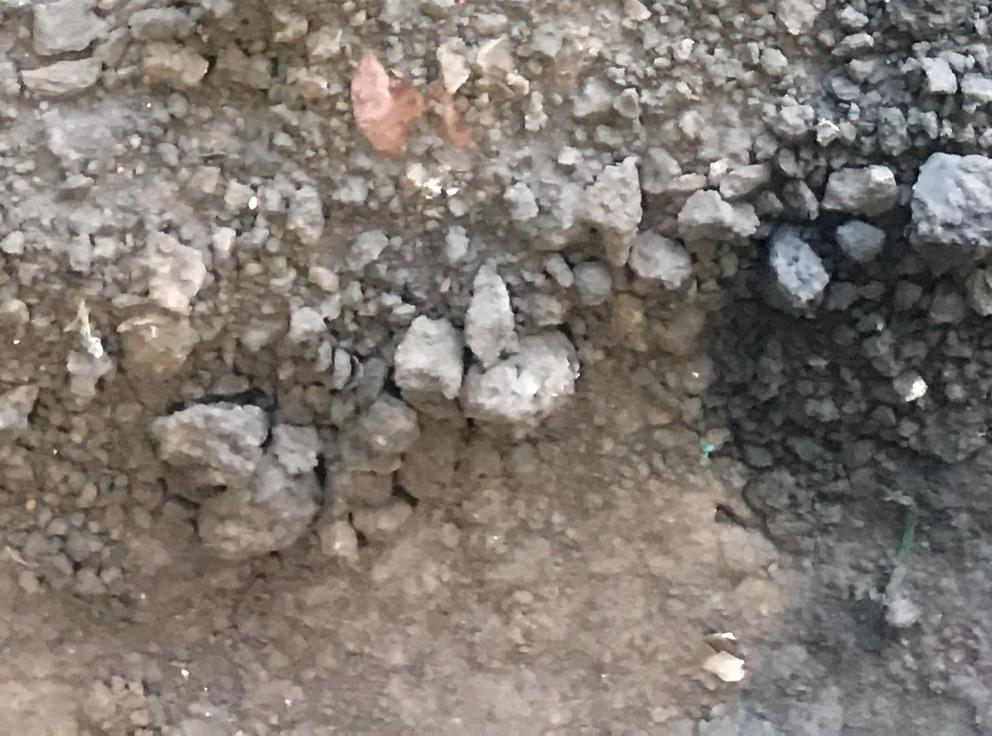block: (462, 330, 572, 442), (196, 460, 317, 560), (147, 400, 262, 484), (904, 150, 992, 259), (761, 232, 837, 325), (391, 316, 462, 408)
